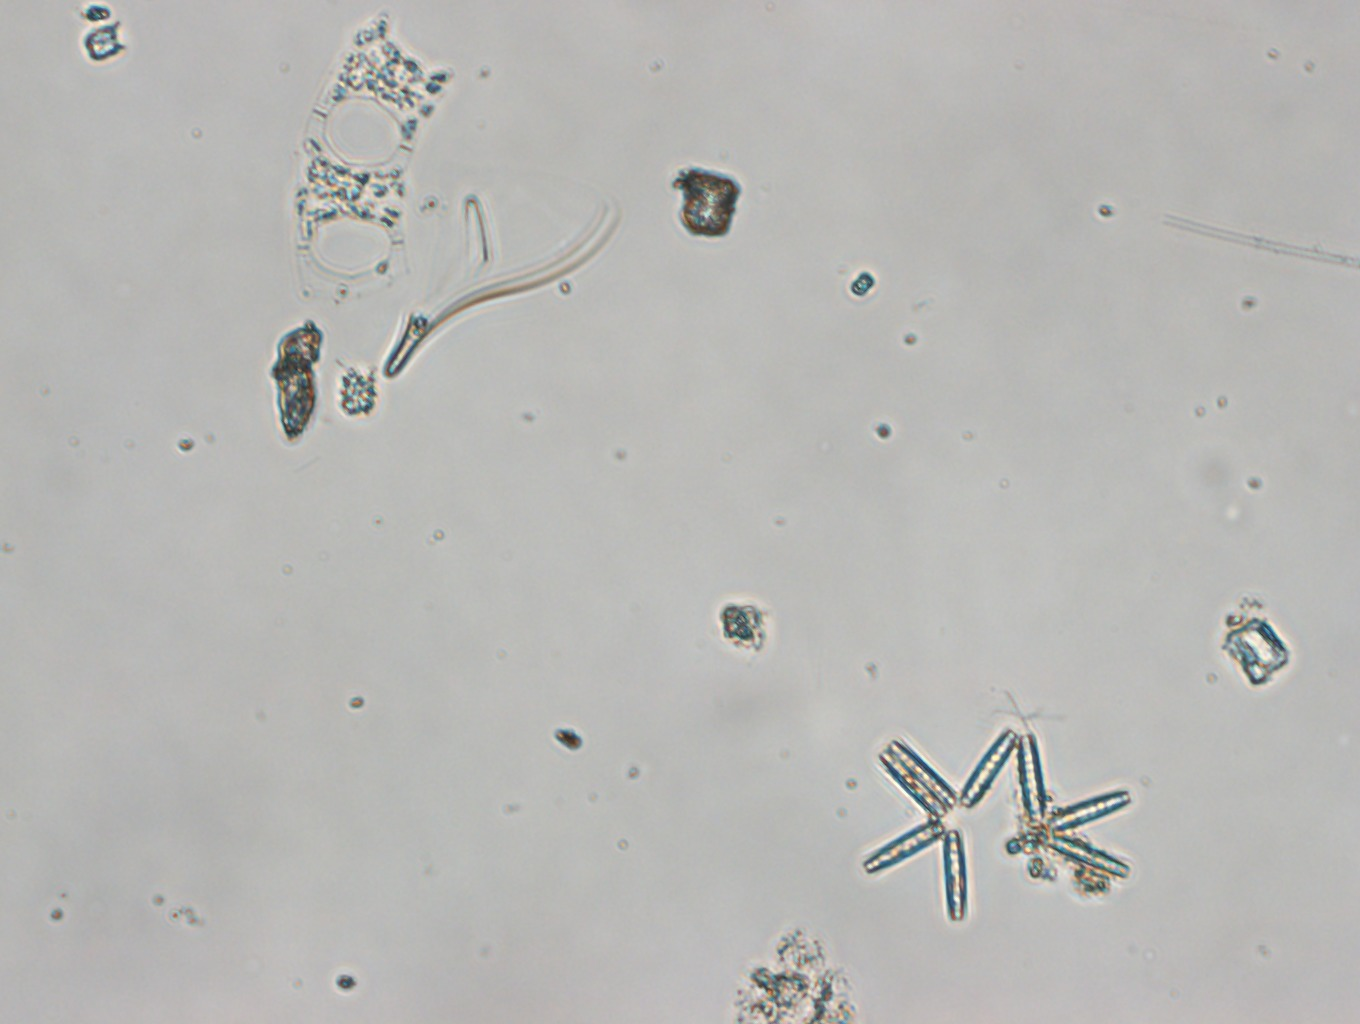eucampia: (276, 24, 455, 303)
thalassionema nitzschioides: (854, 719, 1135, 934)
